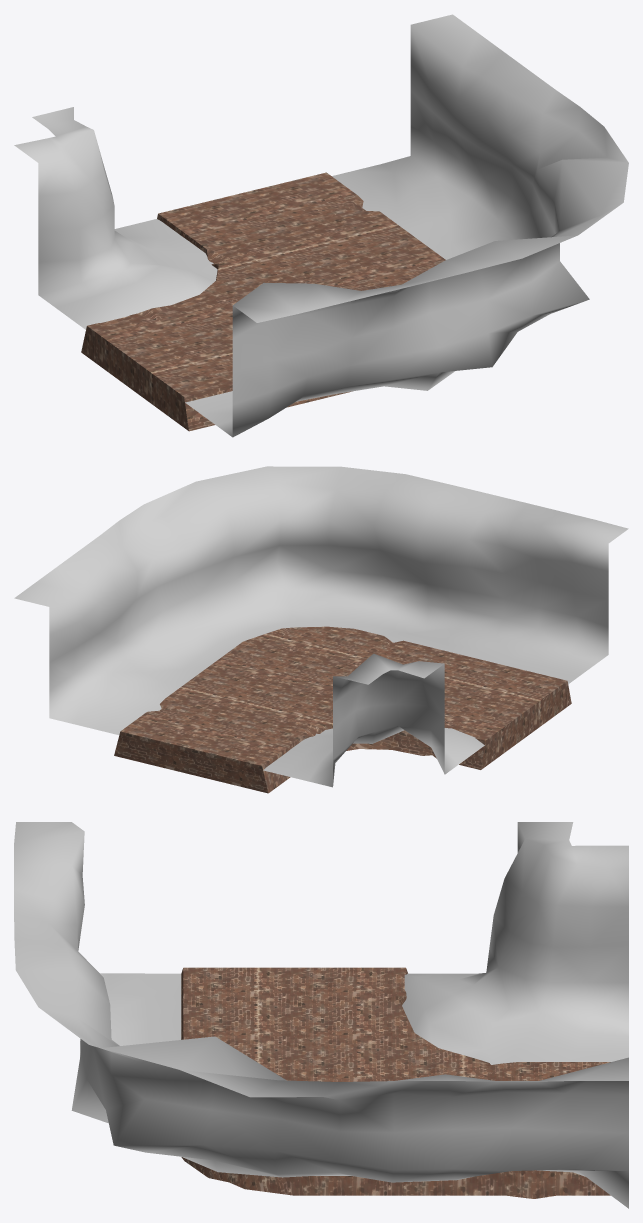
The model's file is tile_natural3.fbx.
The picture shows the model from 3 angles, top to bottom: view 1: azimuth 30°, elevation 25°; view 2: azimuth 150°, elevation 25°; view 3: azimuth 270°, elevation 25°; orthographic projection. The views are drawn at different scales.
Visible parts, largest first — view 1: tilenatural3; view 2: tilenatural3; view 3: tilenatural3.
Boxes of the visible parts, x1,y1,x2,y2 form: tilenatural3: [14, 14, 628, 437]; tilenatural3: [14, 466, 628, 793]; tilenatural3: [14, 822, 628, 1208].
Size of the model in its own units: 5515 by 5519 by 1902.
